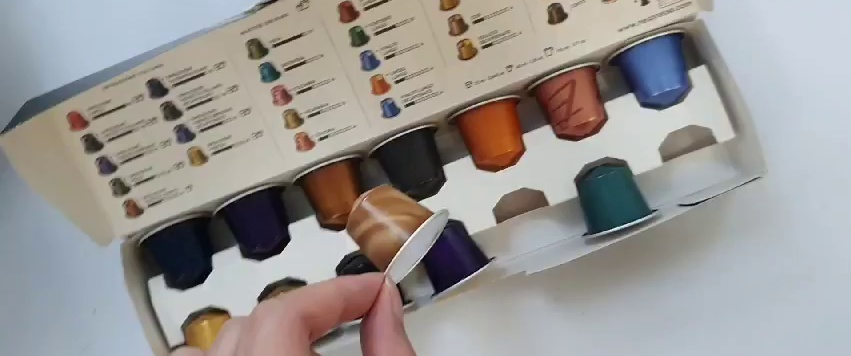capsule_12: (346, 183, 452, 292)
